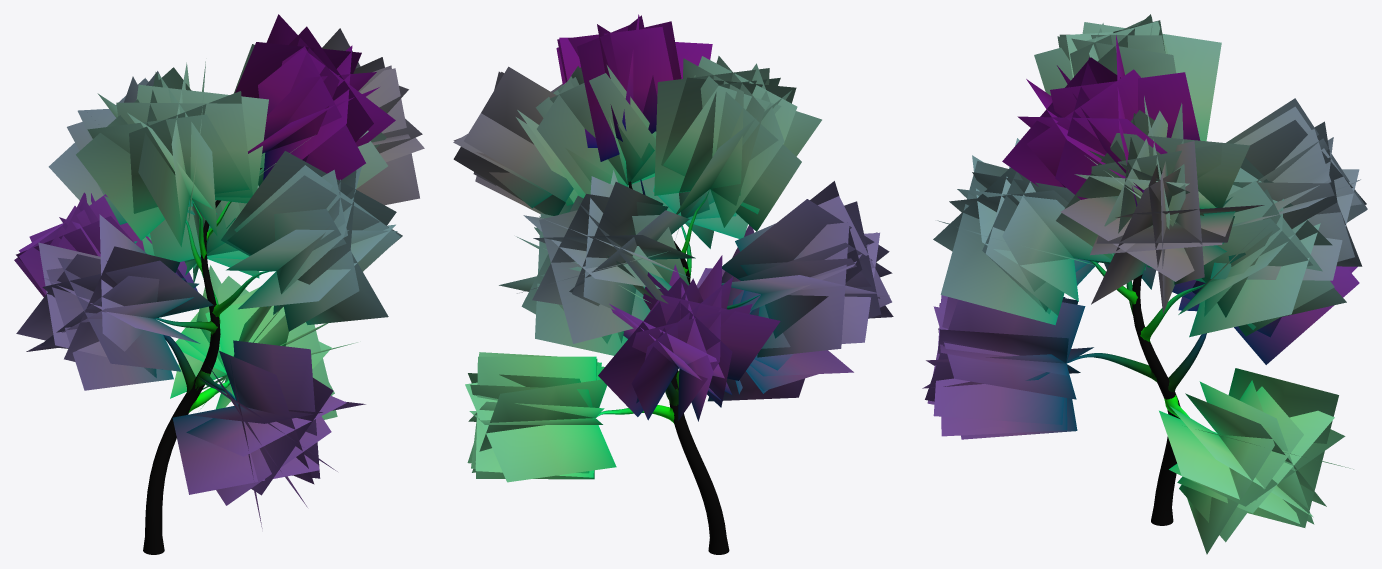
File: URP_P6_Tree_3_LOD_0.fbx
3 renders of one model, left to right at view 1: azimuth 30°, elevation 25°; view 2: azimuth 150°, elevation 25°; view 3: azimuth 270°, elevation 25°, orthographic. The views are drawn at different scales.
Parts seen in each view (by area): view 1: Tree_3_LOD_0; view 2: Tree_3_LOD_0; view 3: Tree_3_LOD_0.
Part boxes in pixels (<box>): Tree_3_LOD_0: <box>14,14,424,554</box>; Tree_3_LOD_0: <box>453,14,893,554</box>; Tree_3_LOD_0: <box>922,14,1367,554</box>.
Bounding box in the file's own units: 563 × 681 × 521.
